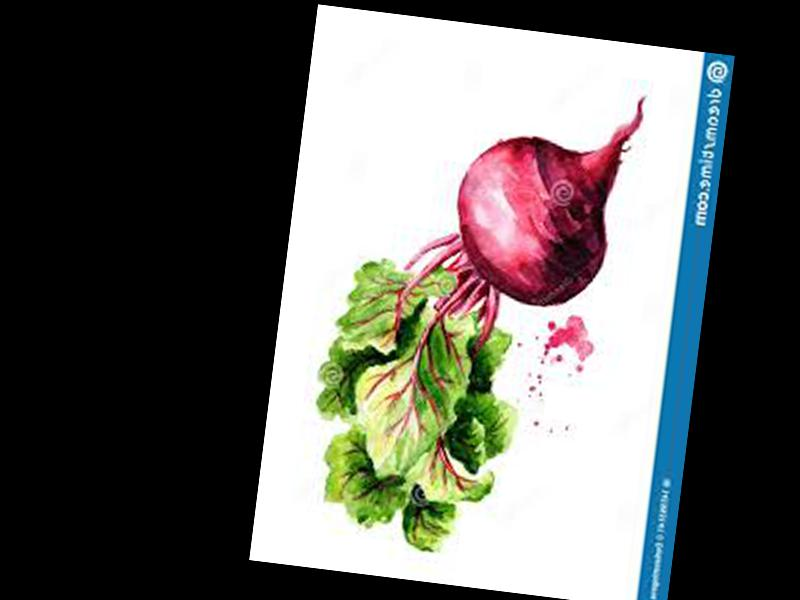Beet: (297, 64, 645, 573)
